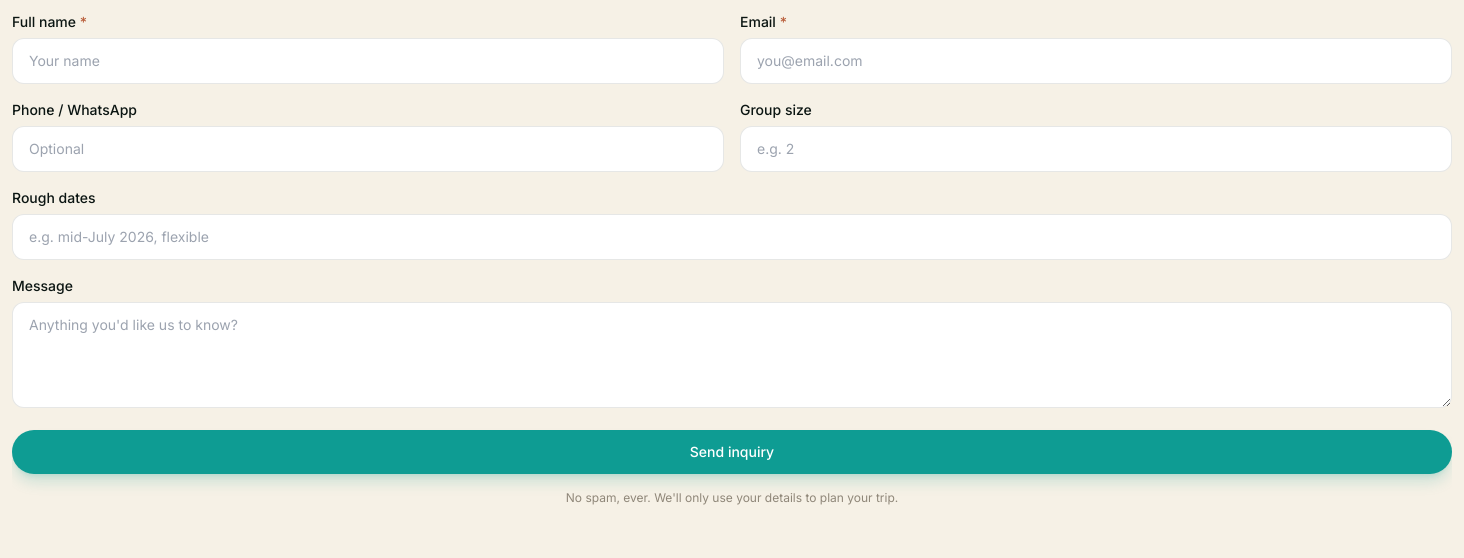
InquiryForm › shows the WhatsApp fallback when the API fails
The width and height of the screenshot is (1464, 558).
Type "Sofia R." into the field labelled "Full name *" at (368, 61), box [12,38,724,84]
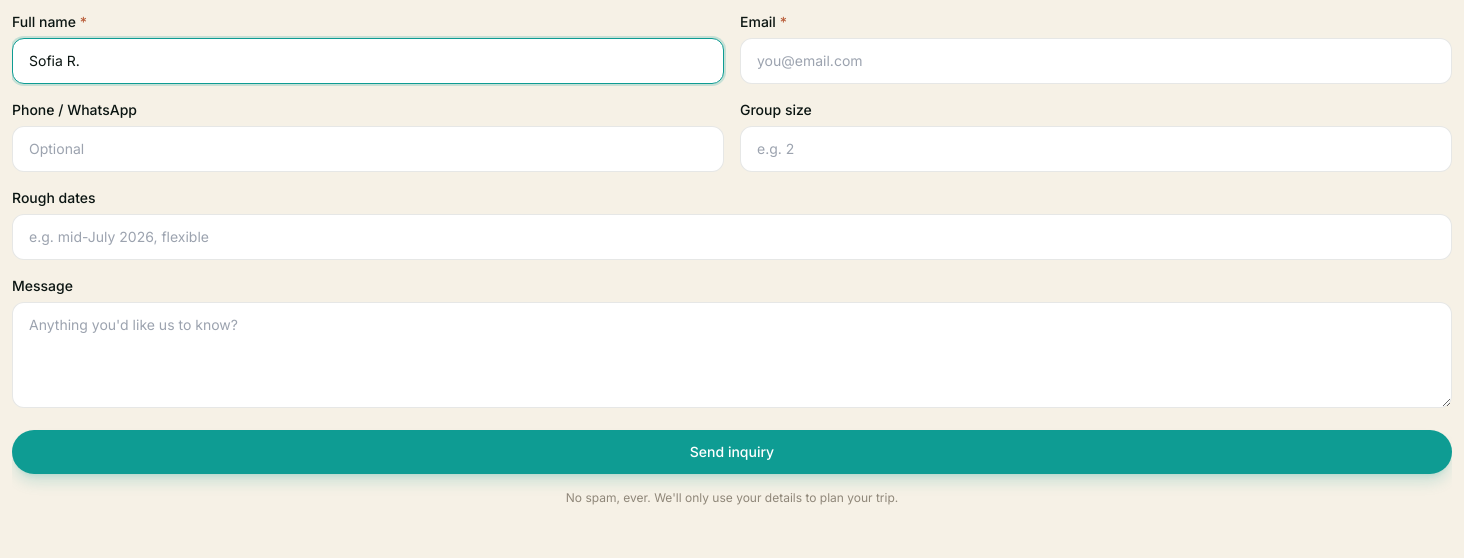
Type "sofia@example.com" into the field labelled "Email *" at (1096, 61), box [740,38,1452,84]
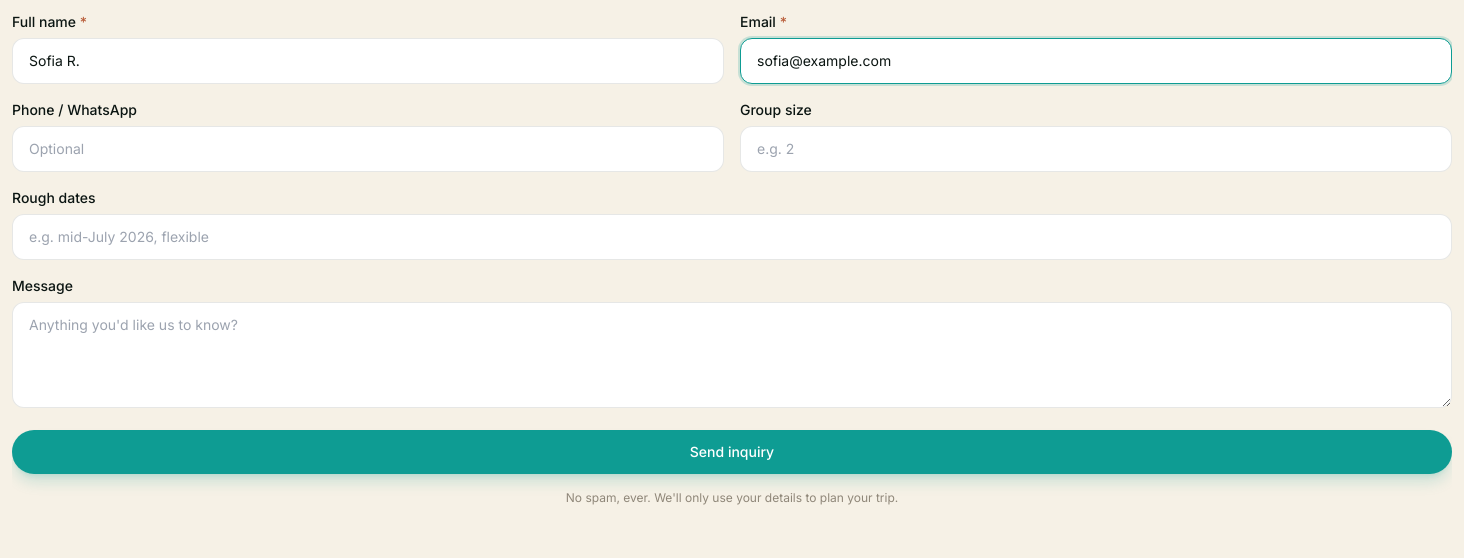
Type "Is the June departure still open?" into the text box labelled "Message" at (732, 355), box [12,302,1452,408]
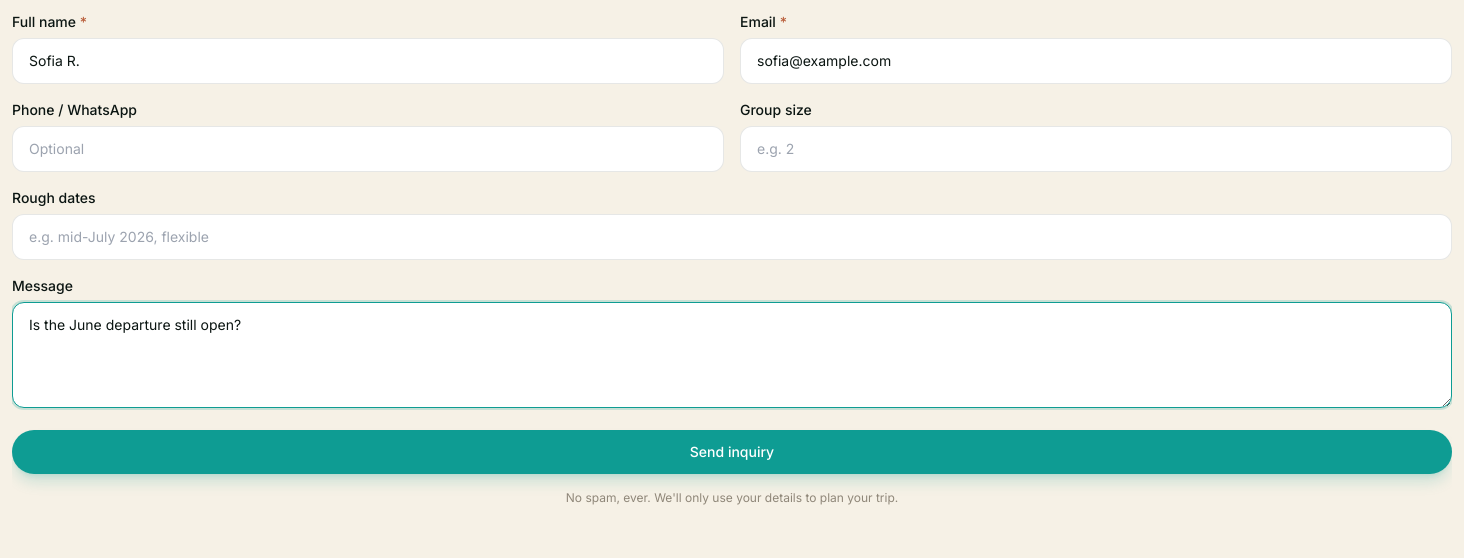
Click the button "Send inquiry" at (732, 452), box [12,430,1452,474]
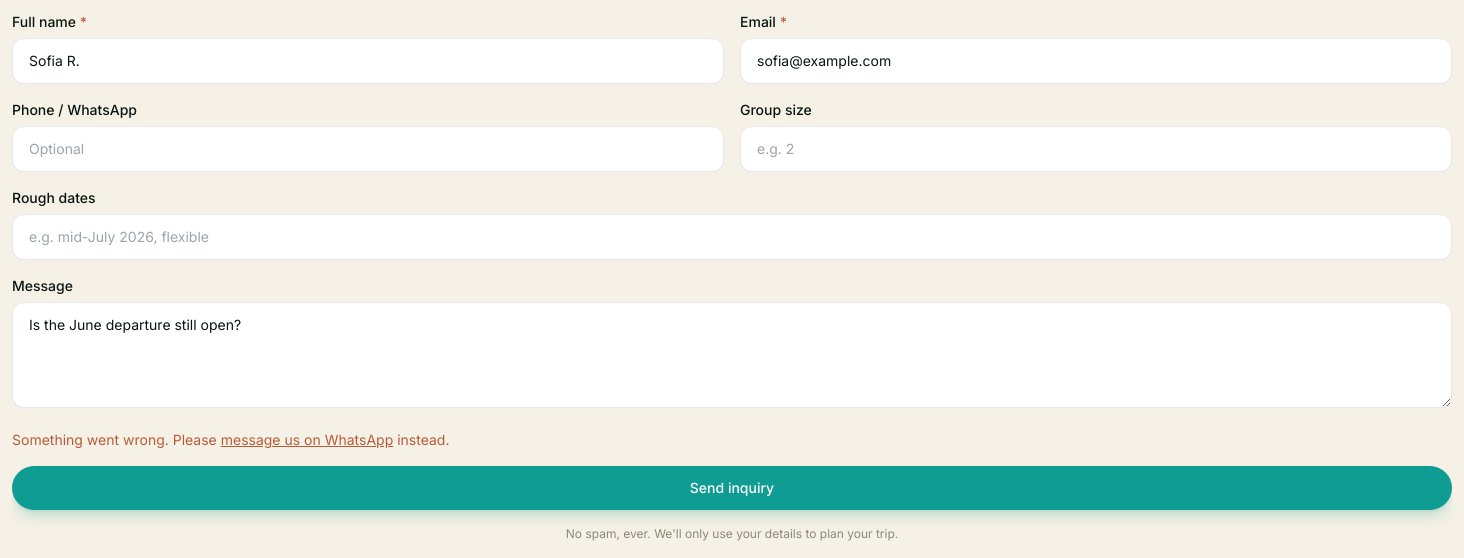
Expected: the text "Something went wrong. Please message us on WhatsApp instead." is shown, [12,431,450,448]
Expected: the link "message us on WhatsApp" is shown, [221,431,393,448]
